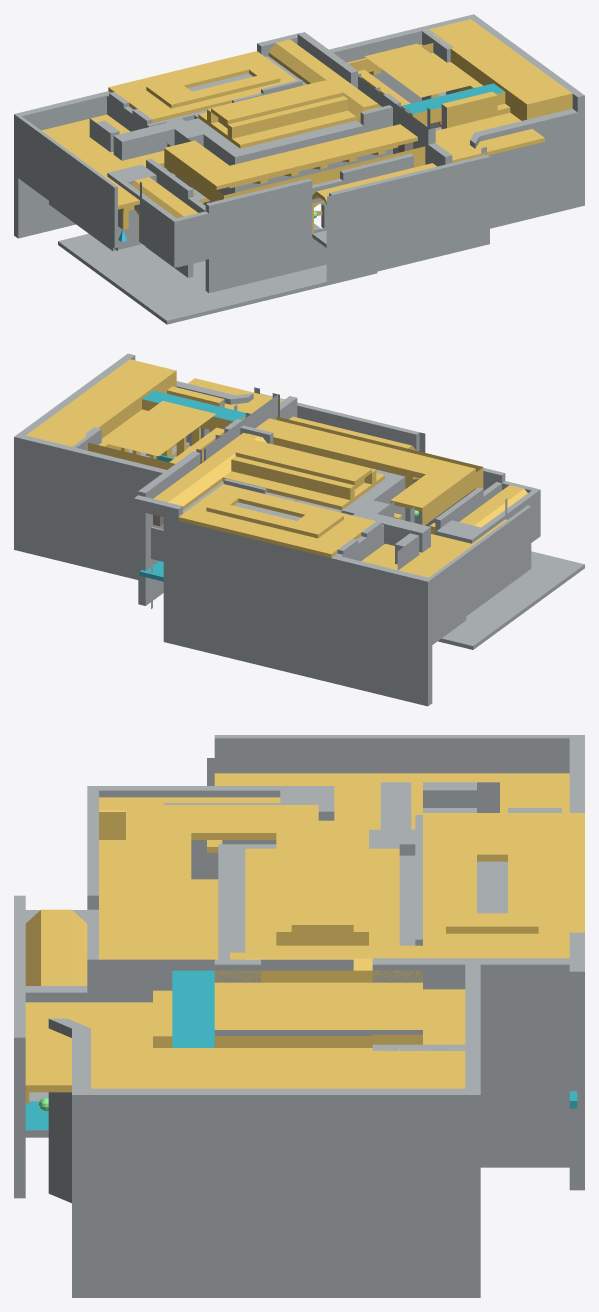
The model's file is oa_dm1_unity_layout.fbx.
3 views of the same model, one above another, from view 1: azimuth 30°, elevation 25°; view 2: azimuth 150°, elevation 25°; view 3: azimuth 270°, elevation 25° (orthographic). The views are drawn at different scales.
Parts seen in each view (by area): view 1: OA_DM1_Layout_Visual_ReplacedMaterials; view 2: OA_DM1_Layout_Visual_ReplacedMaterials; view 3: OA_DM1_Layout_Visual_ReplacedMaterials.
Part boxes in pixels (<box>): OA_DM1_Layout_Visual_ReplacedMaterials: <box>14,14,584,324</box>; OA_DM1_Layout_Visual_ReplacedMaterials: <box>14,353,584,706</box>; OA_DM1_Layout_Visual_ReplacedMaterials: <box>14,735,584,1297</box>.
Size of what is drawn, in the model's own units: 2975 by 925 by 1850.
